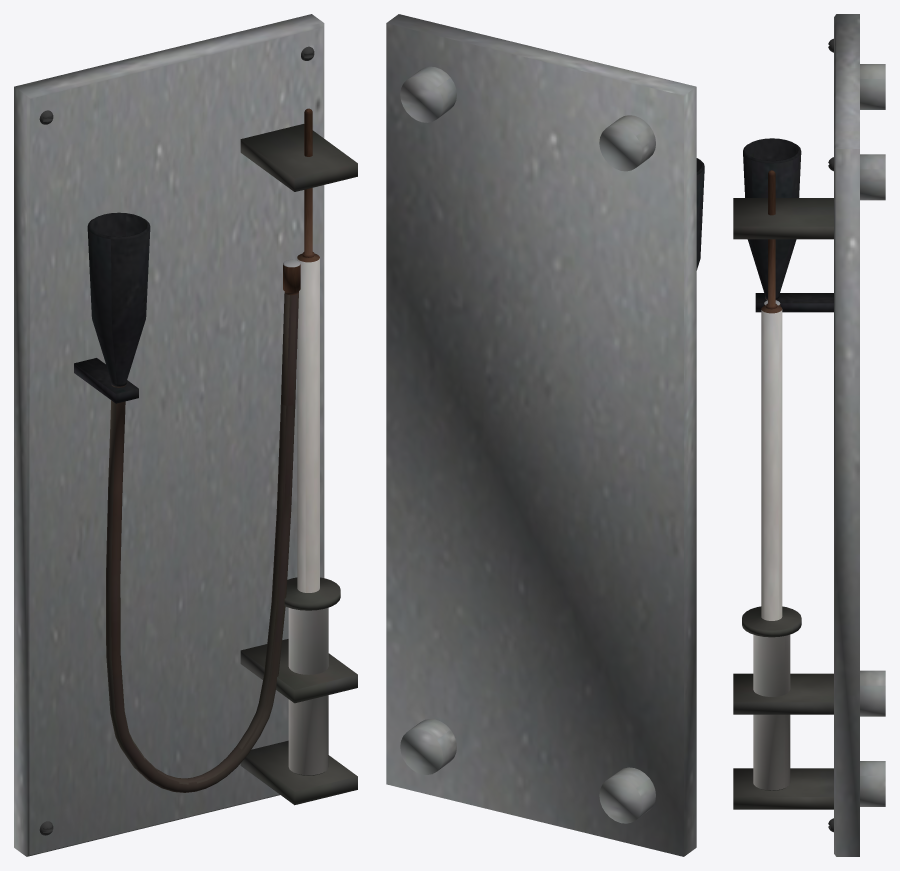
Rendered from ShortingProbef.obj.
3 renders of one model, left to right at view 1: azimuth 30°, elevation 25°; view 2: azimuth 150°, elevation 25°; view 3: azimuth 270°, elevation 25°, orthographic. The views are drawn at different scales.
Visible parts, largest first — view 1: Default; view 2: Default; view 3: Default.
Boxes of the visible parts, x1=… form: Default: x1=14, y1=14, x2=357, y2=856; Default: x1=386, y1=14, x2=704, y2=856; Default: x1=733, y1=14, x2=885, y2=856.
Bounding box in the file's own units: 7.03 × 17.18 × 3.34.
